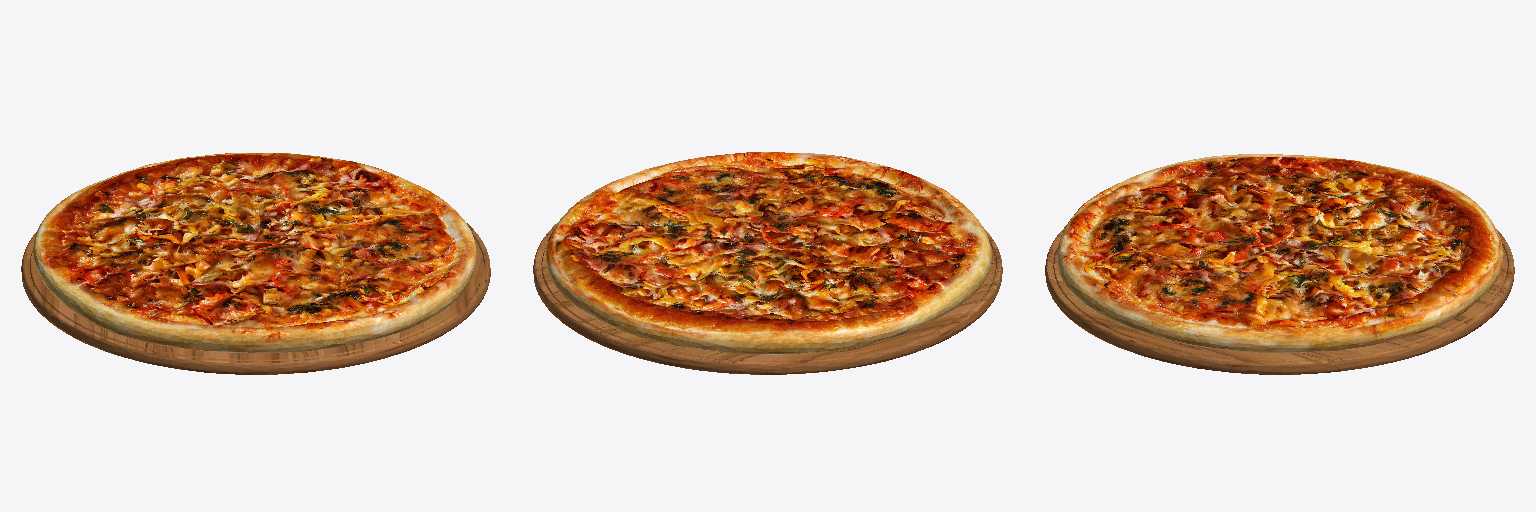
The picture shows the model from 3 angles: view 1: azimuth 30°, elevation 25°; view 2: azimuth 150°, elevation 25°; view 3: azimuth 270°, elevation 25°; orthographic projection.
Parts seen in each view (by area): view 1: Cylinder002.005_Cylinder002.005_wire_[number redacted].000; view 2: Cylinder002.005_Cylinder002.005_wire_[number redacted].000; view 3: Cylinder002.005_Cylinder002.005_wire_[number redacted].000.
Boxes of the visible parts, x1=… form: Cylinder002.005_Cylinder002.005_wire_[number redacted].000: x1=21, y1=153, x2=490, y2=374; Cylinder002.005_Cylinder002.005_wire_[number redacted].000: x1=533, y1=152, x2=1002, y2=374; Cylinder002.005_Cylinder002.005_wire_[number redacted].000: x1=1045, y1=154, x2=1514, y2=374.
Size of the model in its own units: 26.3 by 2.57 by 26.3.
Materials: 2 (2 with a texture image).